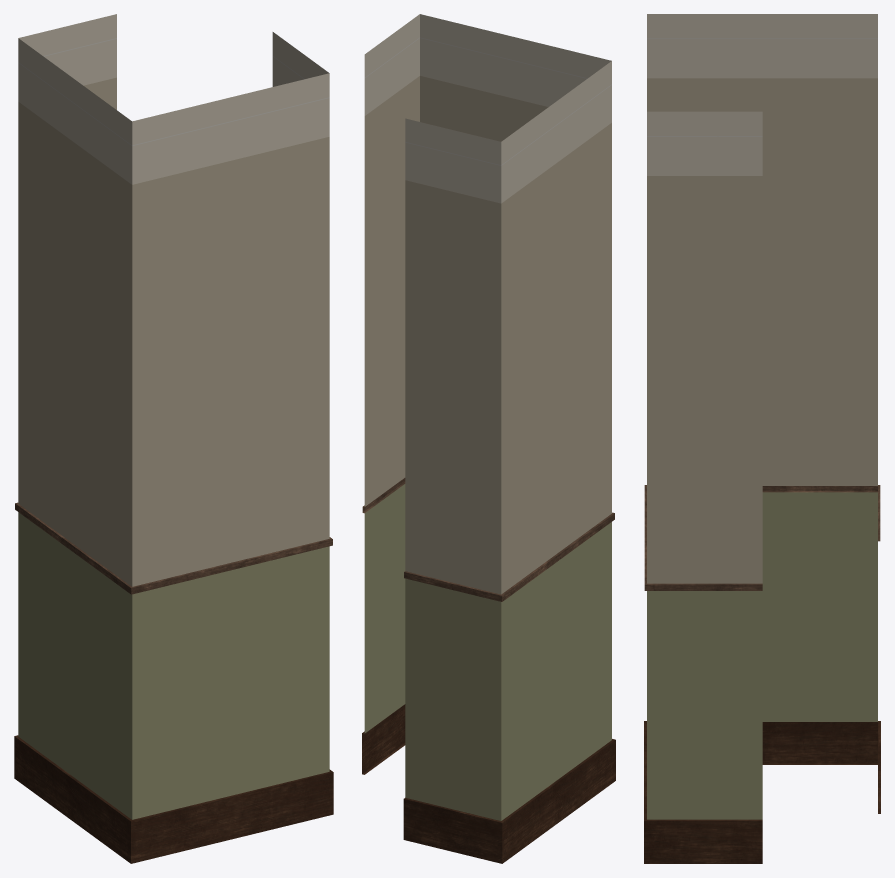
File: Corner_Pillar.fbx
3 renders of one model, left to right at view 1: azimuth 30°, elevation 25°; view 2: azimuth 150°, elevation 25°; view 3: azimuth 270°, elevation 25°, orthographic. The views are drawn at different scales.
Parts seen in each view (by area): view 1: Half_Pillar.002; view 2: Half_Pillar.002; view 3: Half_Pillar.002.
Part boxes in pixels (<box>): Half_Pillar.002: <box>14,14,333,863</box>; Half_Pillar.002: <box>362,14,615,863</box>; Half_Pillar.002: <box>644,14,880,863</box>.
Size of the model in its own units: 100 by 350 by 100.
